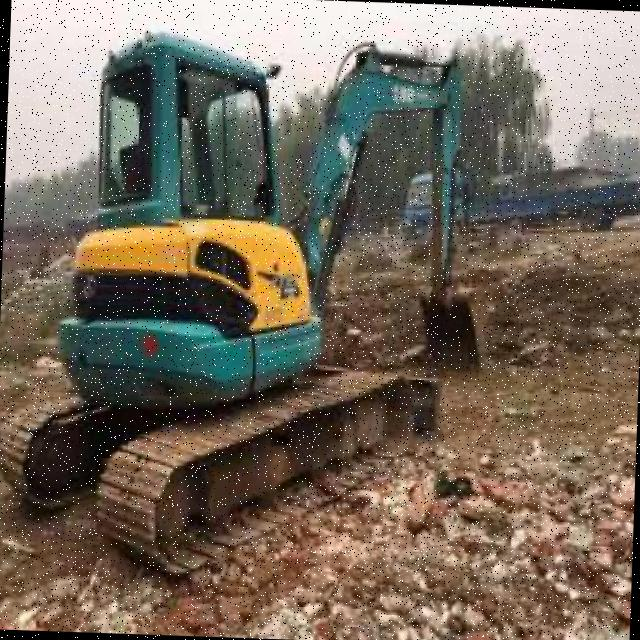Excavator: (0, 20, 498, 584)
